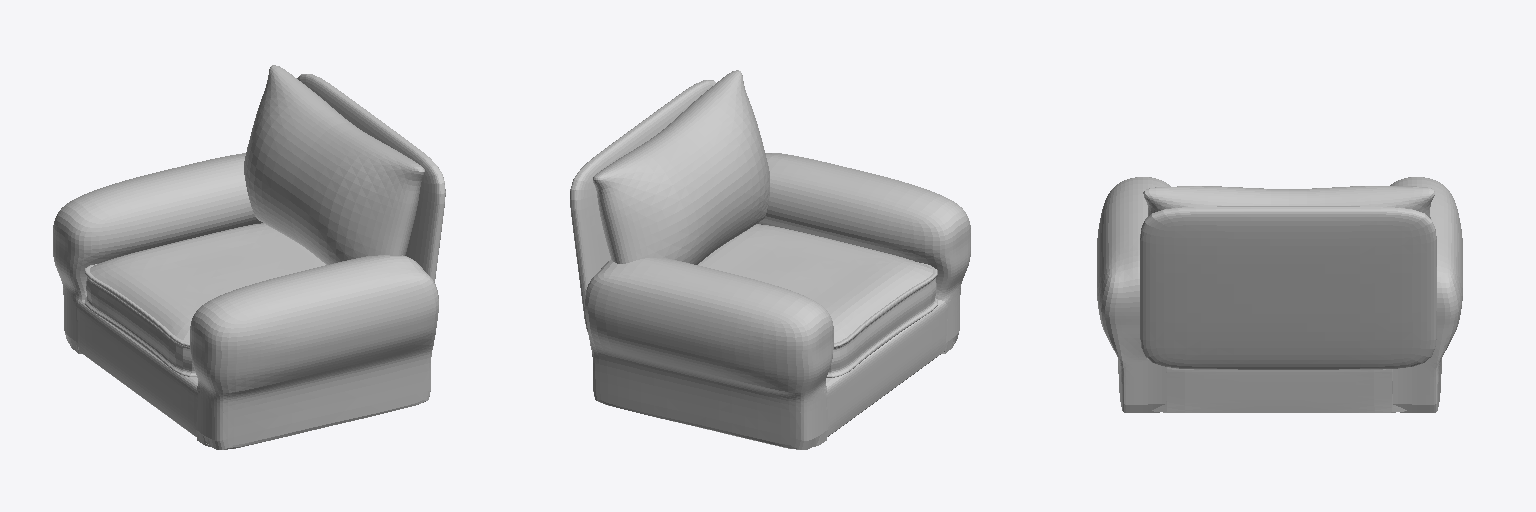
The model's file is housesp_018.obj.
The picture shows the model from 3 angles: view 1: azimuth 30°, elevation 25°; view 2: azimuth 150°, elevation 25°; view 3: azimuth 270°, elevation 25°; orthographic projection.
Bounding box in the file's own units: 79.4 × 68.53 × 100.